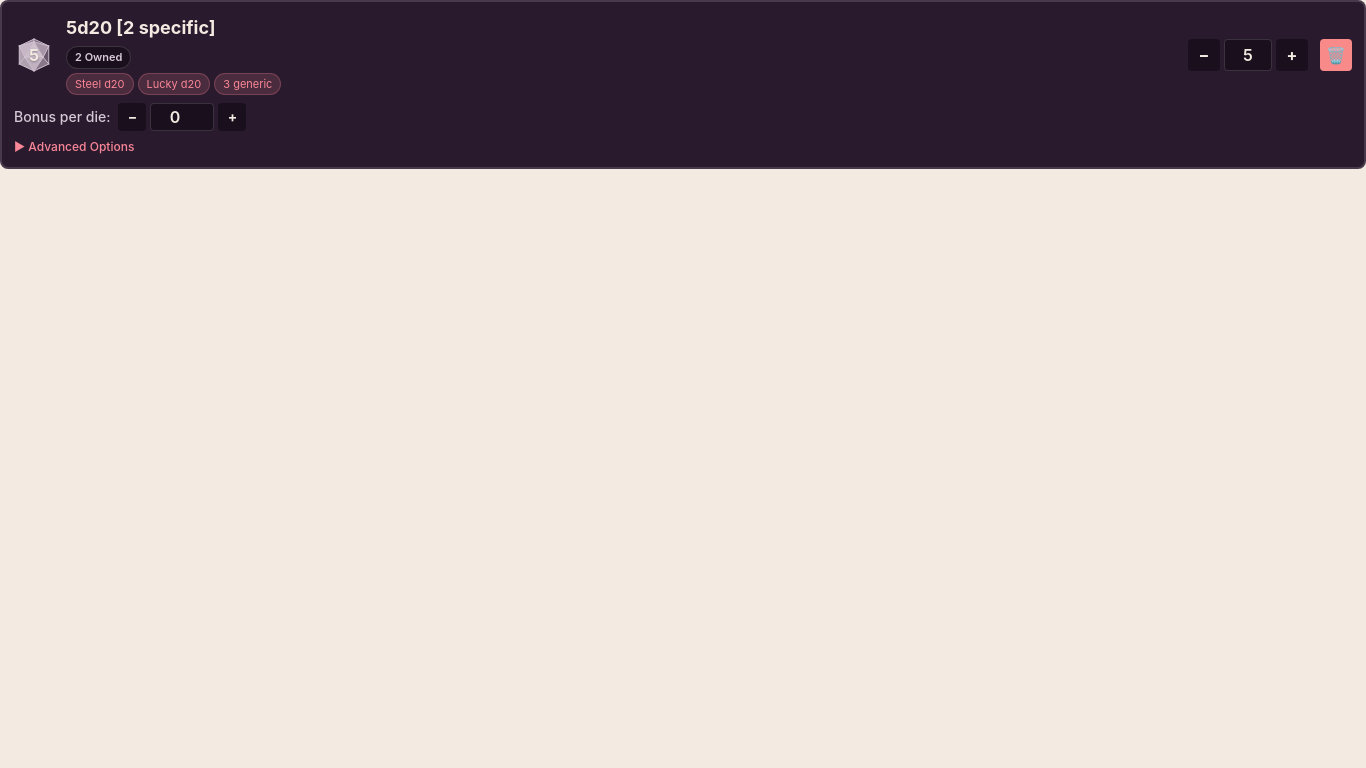
DiceEntryCard removed-dice notice › names both kinds when a shrink runs out of generic dice to give up
Step 1. Click the button "▶ Advanced Options" → {"x": 80, "y": 146}, box [14,139,1352,155]
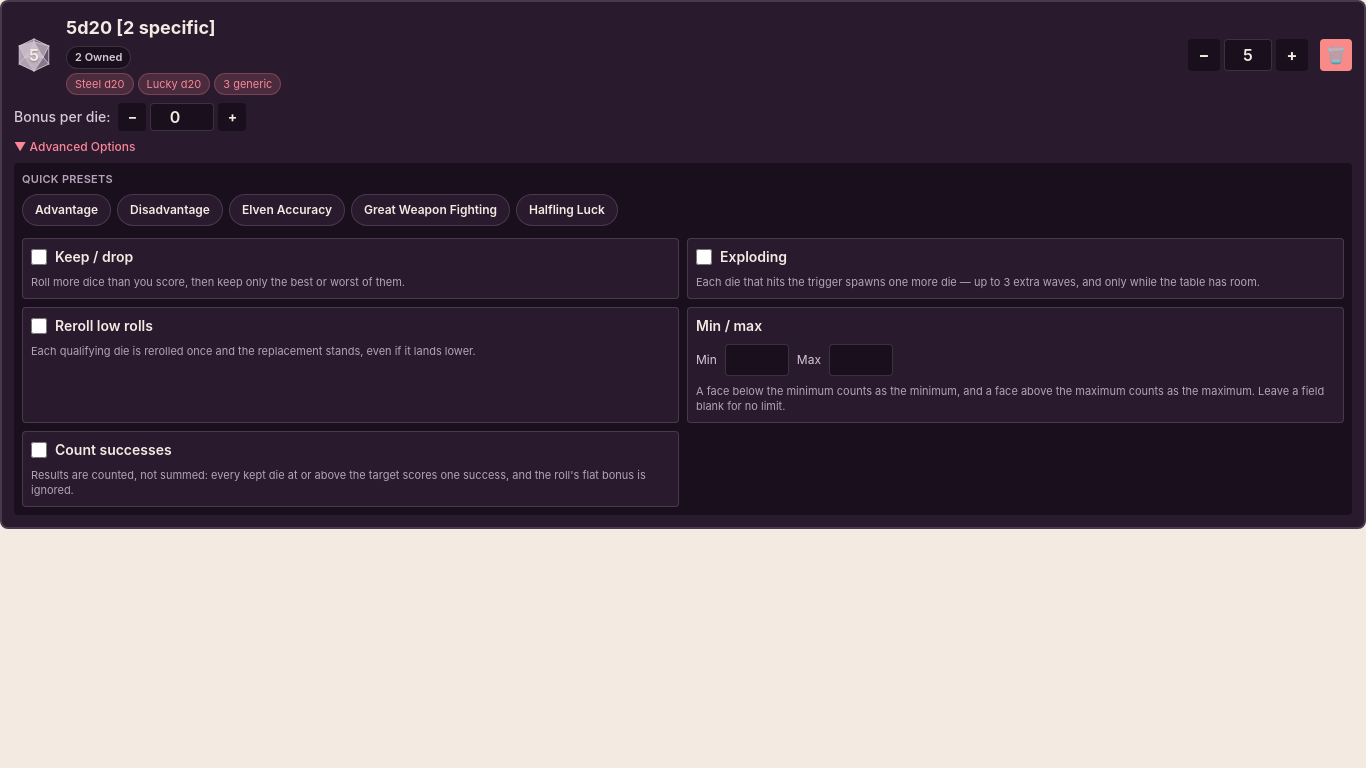
Step 2. Replace the text in the field named "D20 quantity" with "1" → {"x": 1248, "y": 54}, box [1224,38,1272,70]
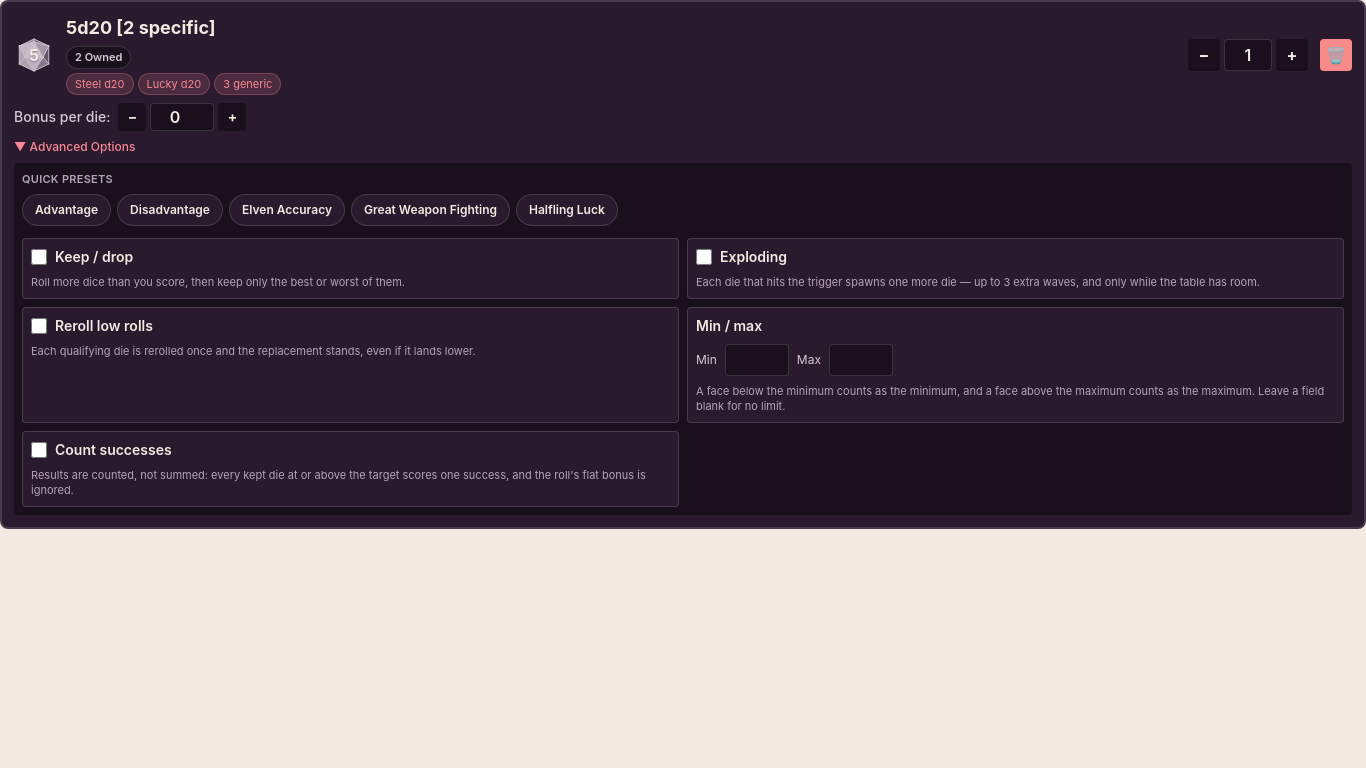
Step 3. Leave the field named "D20 quantity", box [1224,38,1272,70]
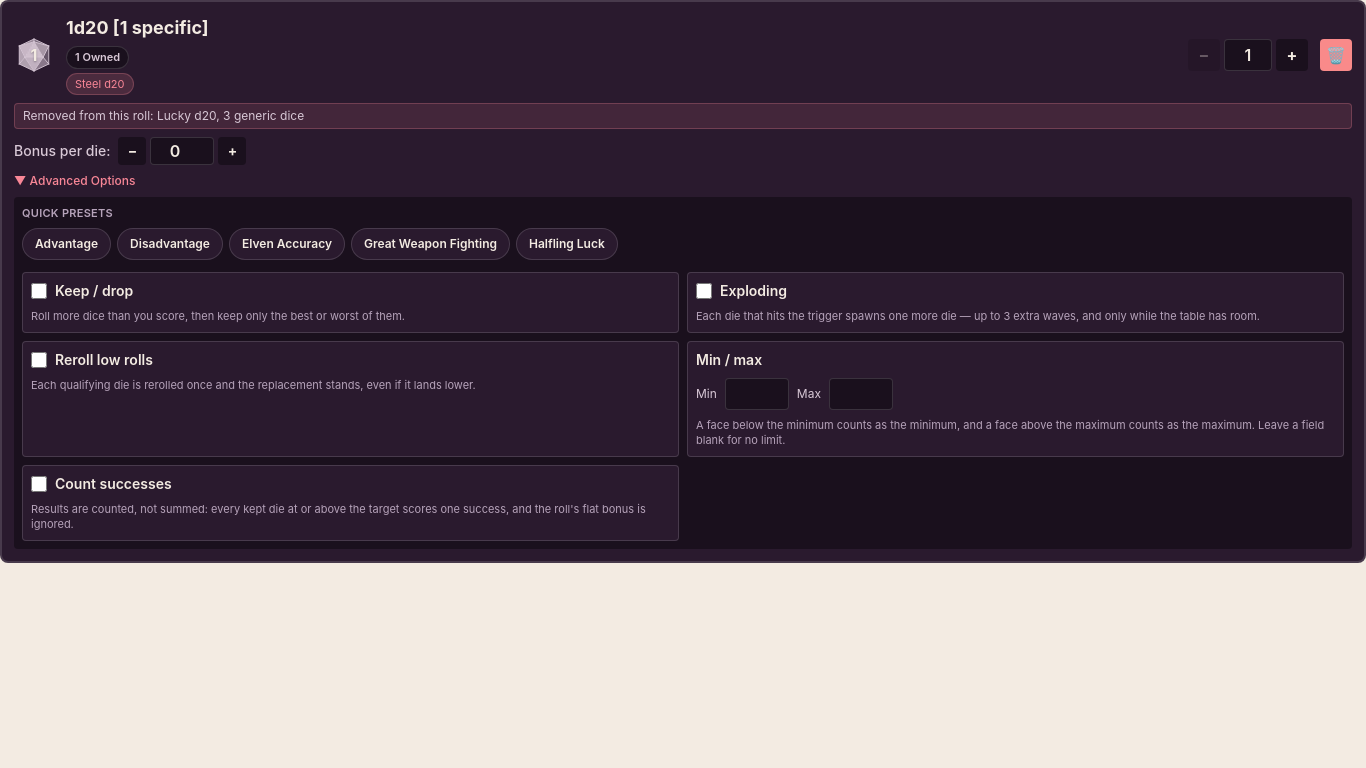
Expected: the message reads "Removed from this roll: Lucky d20, 3 generic dice", [14,103,1352,129]
